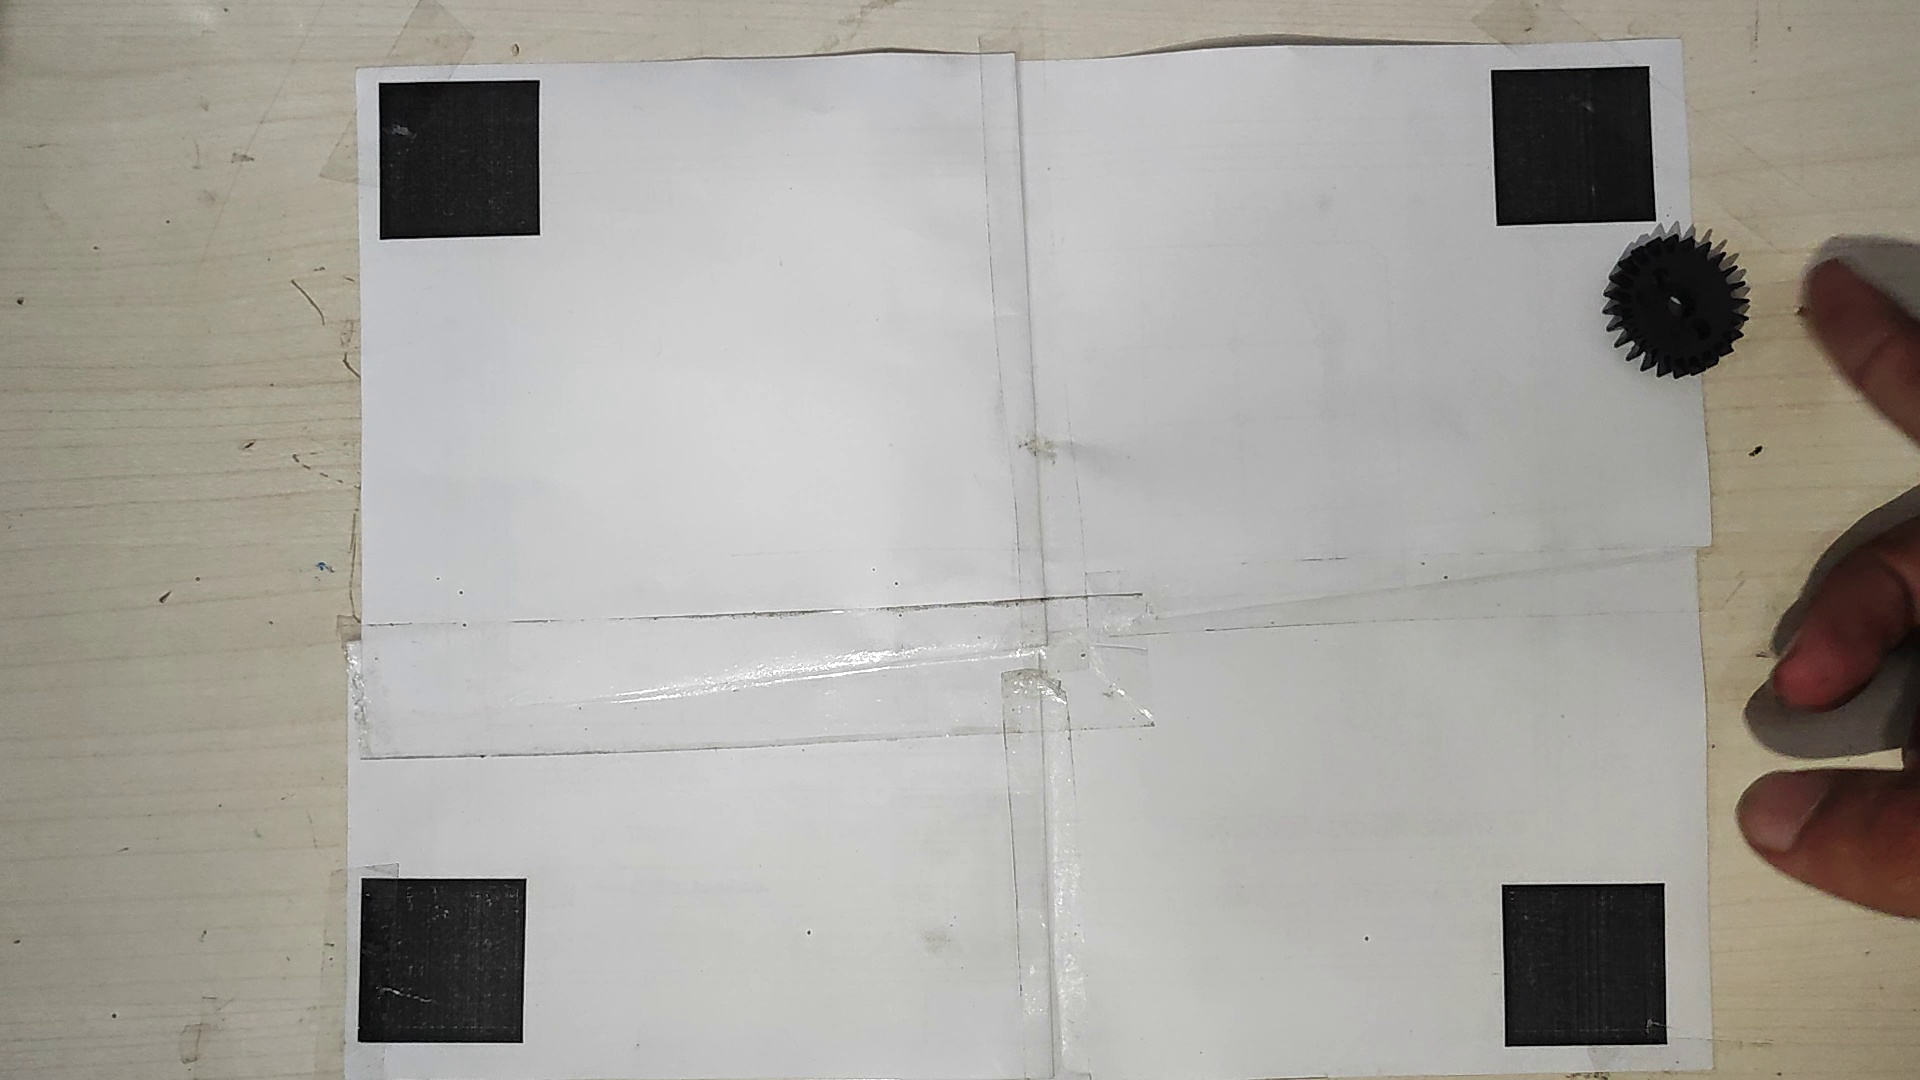Gear: (1602, 228, 1750, 378)
